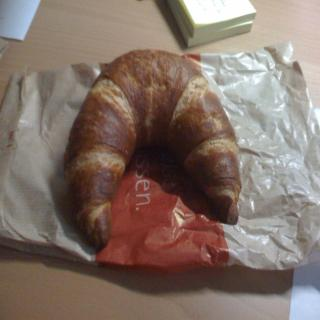Bread: (84, 34, 243, 230)
Croissant: (61, 50, 242, 250)
